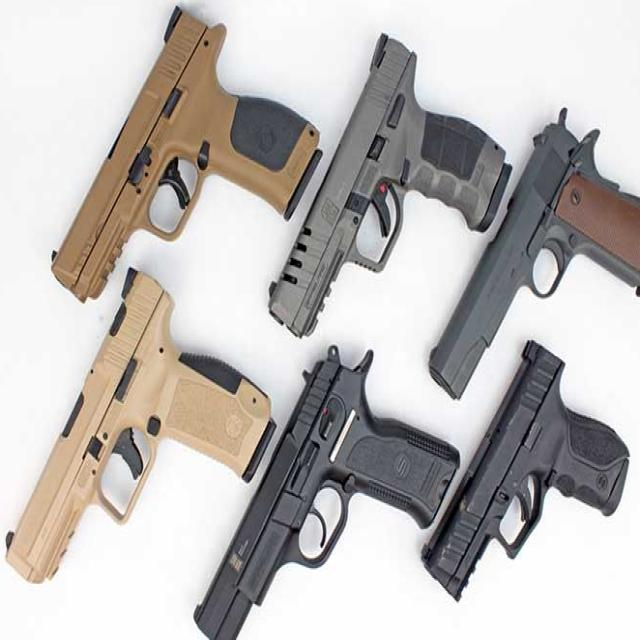Weapon: (6, 270, 274, 582), (52, 7, 320, 300), (194, 346, 458, 640), (269, 35, 509, 336), (430, 108, 640, 398), (423, 340, 628, 600)
